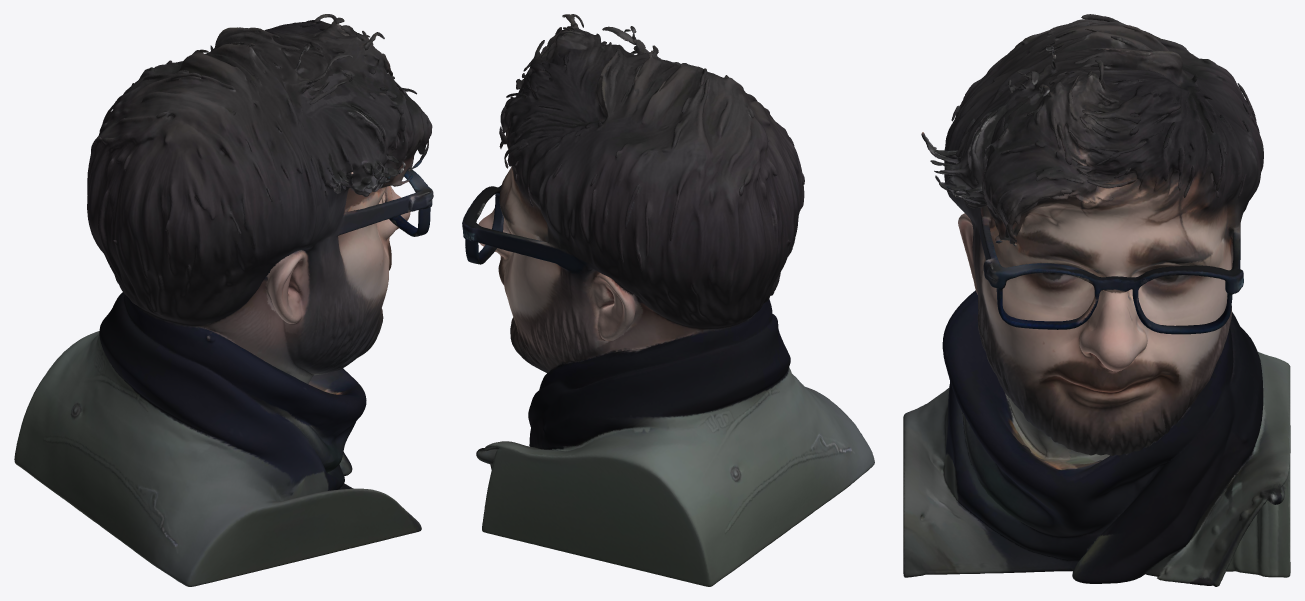
Rendered from model-ultra-compressed.glb.
3 views of the same model, side by side, from view 1: azimuth 30°, elevation 25°; view 2: azimuth 150°, elevation 25°; view 3: azimuth 270°, elevation 25° (orthographic). The views are drawn at different scales.
Parts seen in each view (by area): view 1: tripo_node_9bb122a7-a900-4852-a196-a04d094ae7d3; view 2: tripo_node_9bb122a7-a900-4852-a196-a04d094ae7d3; view 3: tripo_node_9bb122a7-a900-4852-a196-a04d094ae7d3.
Part boxes in pixels (x1,y1,x2,y2): tripo_node_9bb122a7-a900-4852-a196-a04d094ae7d3: [14, 14, 433, 586]; tripo_node_9bb122a7-a900-4852-a196-a04d094ae7d3: [462, 14, 874, 586]; tripo_node_9bb122a7-a900-4852-a196-a04d094ae7d3: [903, 14, 1290, 586].
Size of the model in its own units: 0.7294 by 1 by 0.6878.
1 material, 1 textured.
